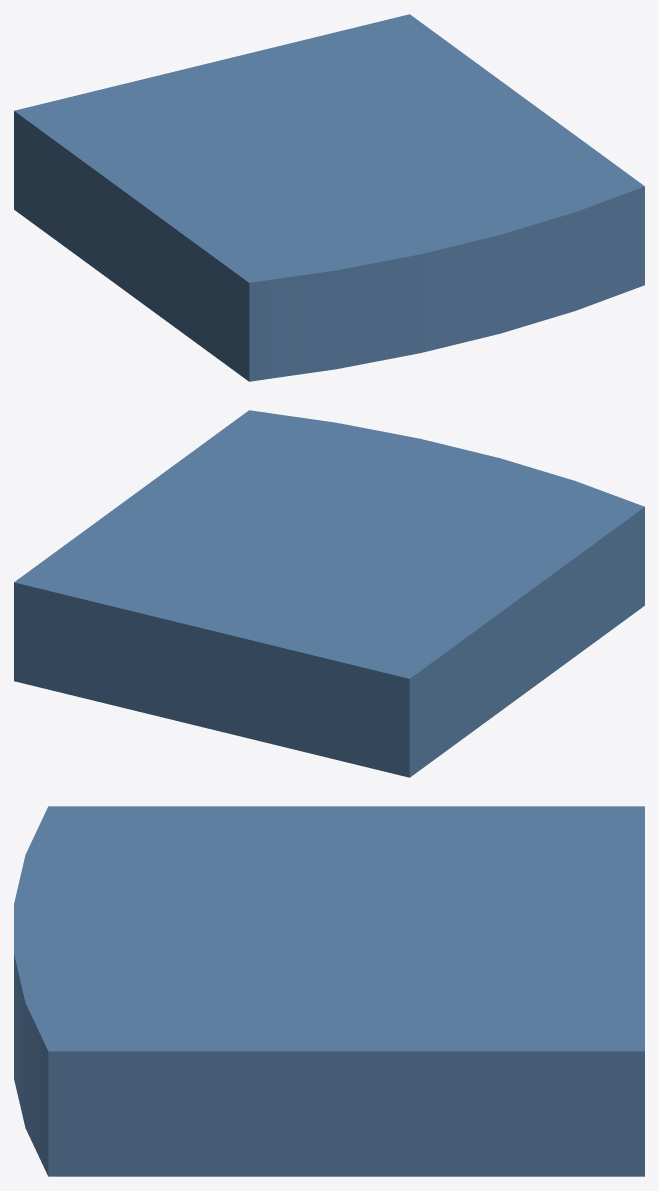
The model's file is step_01.glb.
3 renders of one model, top to bottom at view 1: azimuth 30°, elevation 25°; view 2: azimuth 150°, elevation 25°; view 3: azimuth 270°, elevation 25°, orthographic. The views are drawn at different scales.
Parts seen in each view (by area): view 1: part__dispensing drawer; view 2: part__dispensing drawer; view 3: part__dispensing drawer.
Part boxes in pixels (x1,y1,x2,y2): part__dispensing drawer: (14,14,644,381); part__dispensing drawer: (14,410,644,777); part__dispensing drawer: (14,806,644,1176).
Bounding box in the file's own units: 44 × 10.5 × 47.89.
